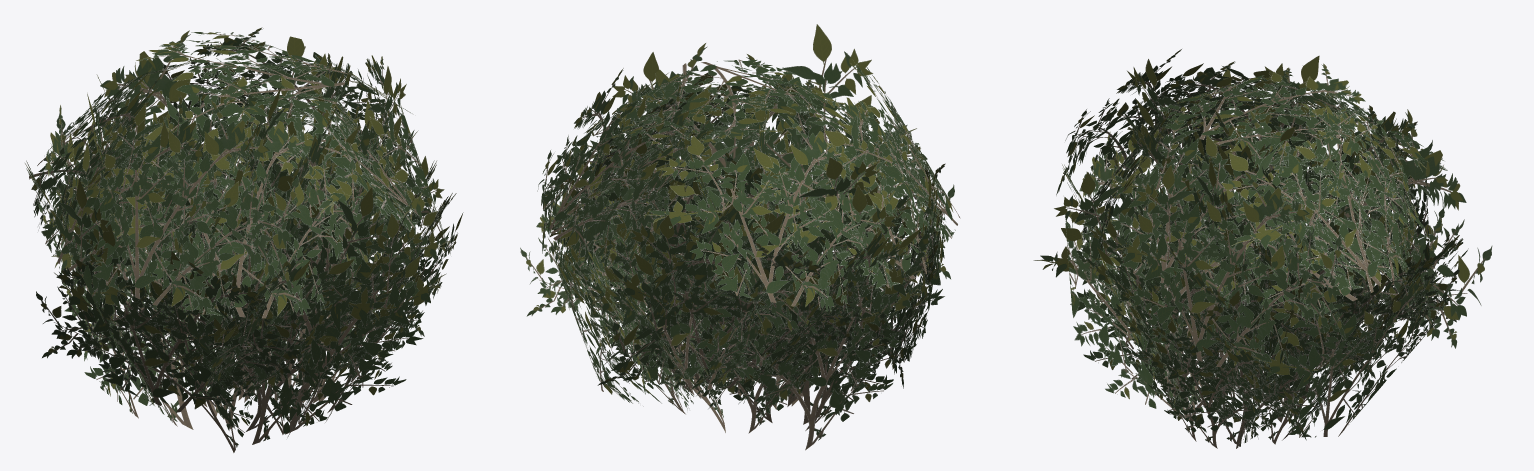
File: Shrub1.fbx
The picture shows the model from 3 angles, left to right: view 1: azimuth 30°, elevation 25°; view 2: azimuth 150°, elevation 25°; view 3: azimuth 270°, elevation 25°; orthographic projection. The views are drawn at different scales.
Parts seen in each view (by area): view 1: Shrub1; view 2: Shrub1; view 3: Shrub1.
Boxes of the visible parts, x1=… form: Shrub1: x1=25, y1=27, x2=463, y2=452; Shrub1: x1=520, y1=24, x2=960, y2=450; Shrub1: x1=1033, y1=49, x2=1492, y2=448.
Size of the model in its own units: 1.08 by 0.9266 by 1.18.
